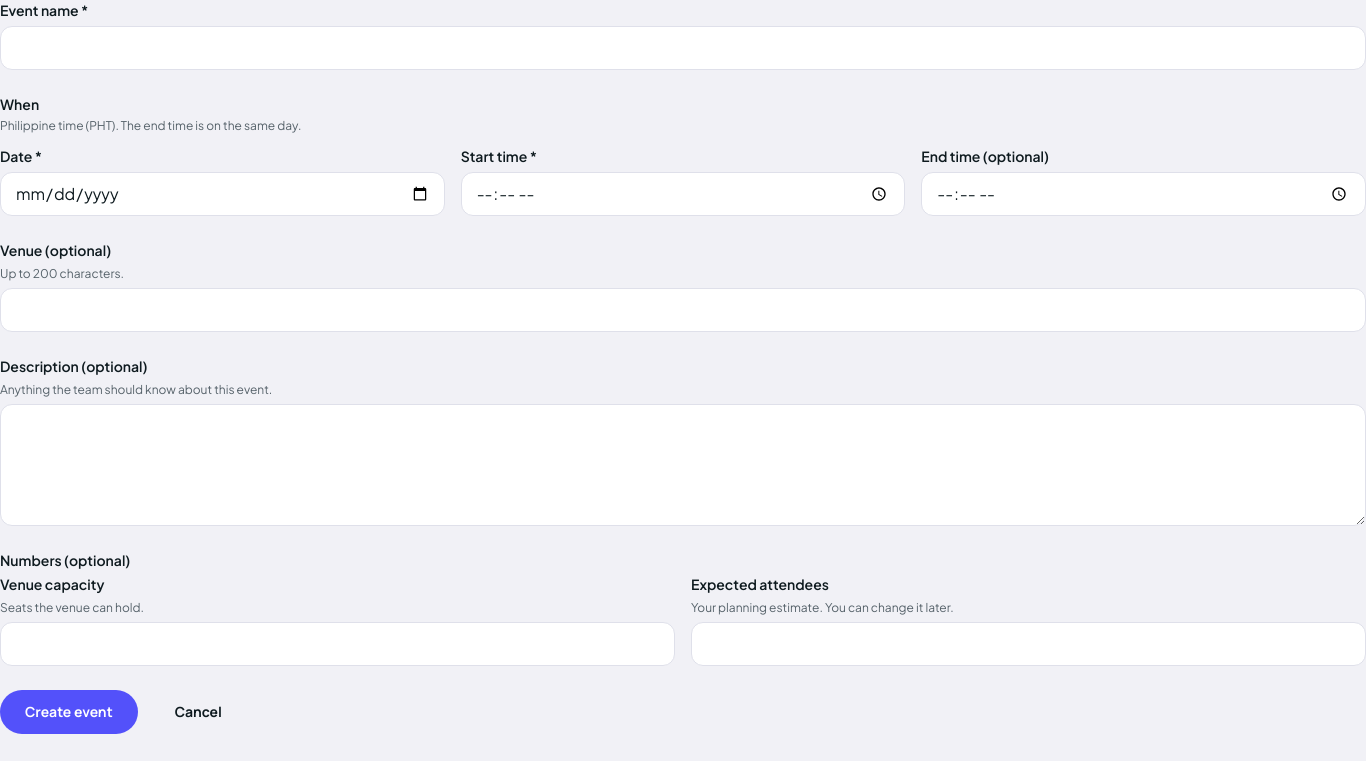
Test: CreateEventForm › shows field errors on the controls and in a summary, keeping the input
Click the button "Create event".
click(69, 712)  # box [0,690,138,734]
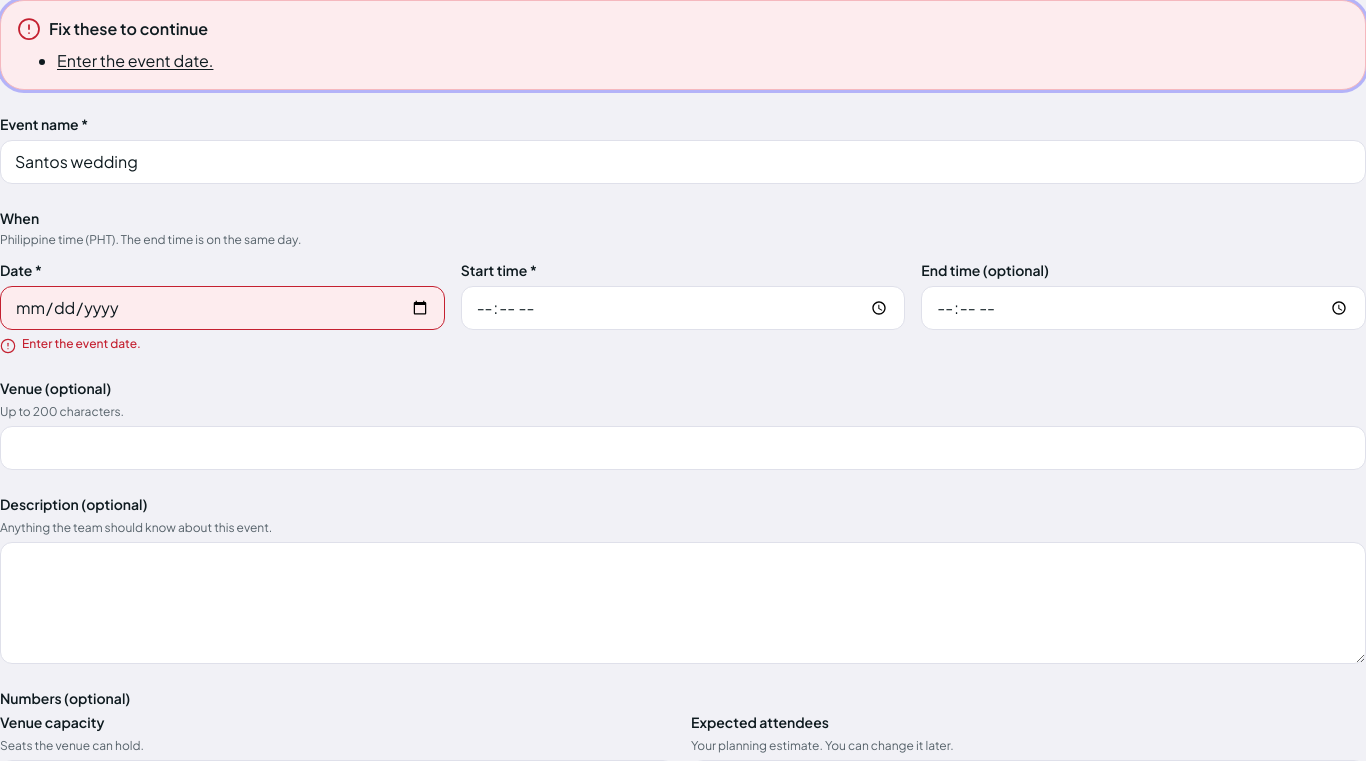
expect the link "Enter the event date." is shown: met, box [57,50,214,71]
expect the field labelled "Event name *" holds "Santos wedding": met, box [0,140,1365,184]
